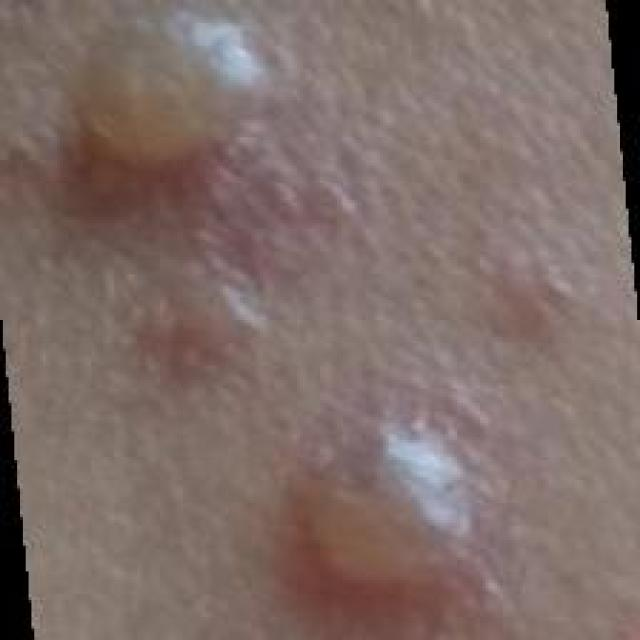others: (48, 26, 498, 613)
